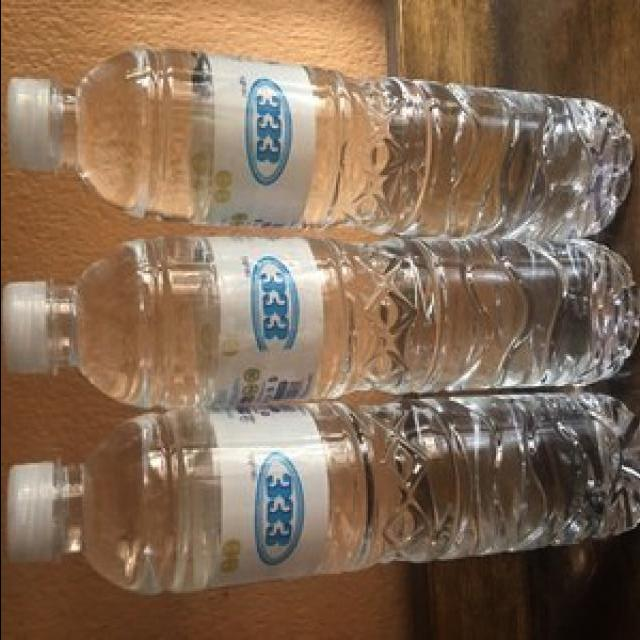cap: (1, 454, 62, 568), (0, 276, 55, 384), (3, 72, 58, 178)
label: (215, 407, 330, 588), (205, 48, 311, 230), (210, 236, 324, 398)
not-crumbled: (3, 389, 640, 607), (0, 42, 632, 244)
